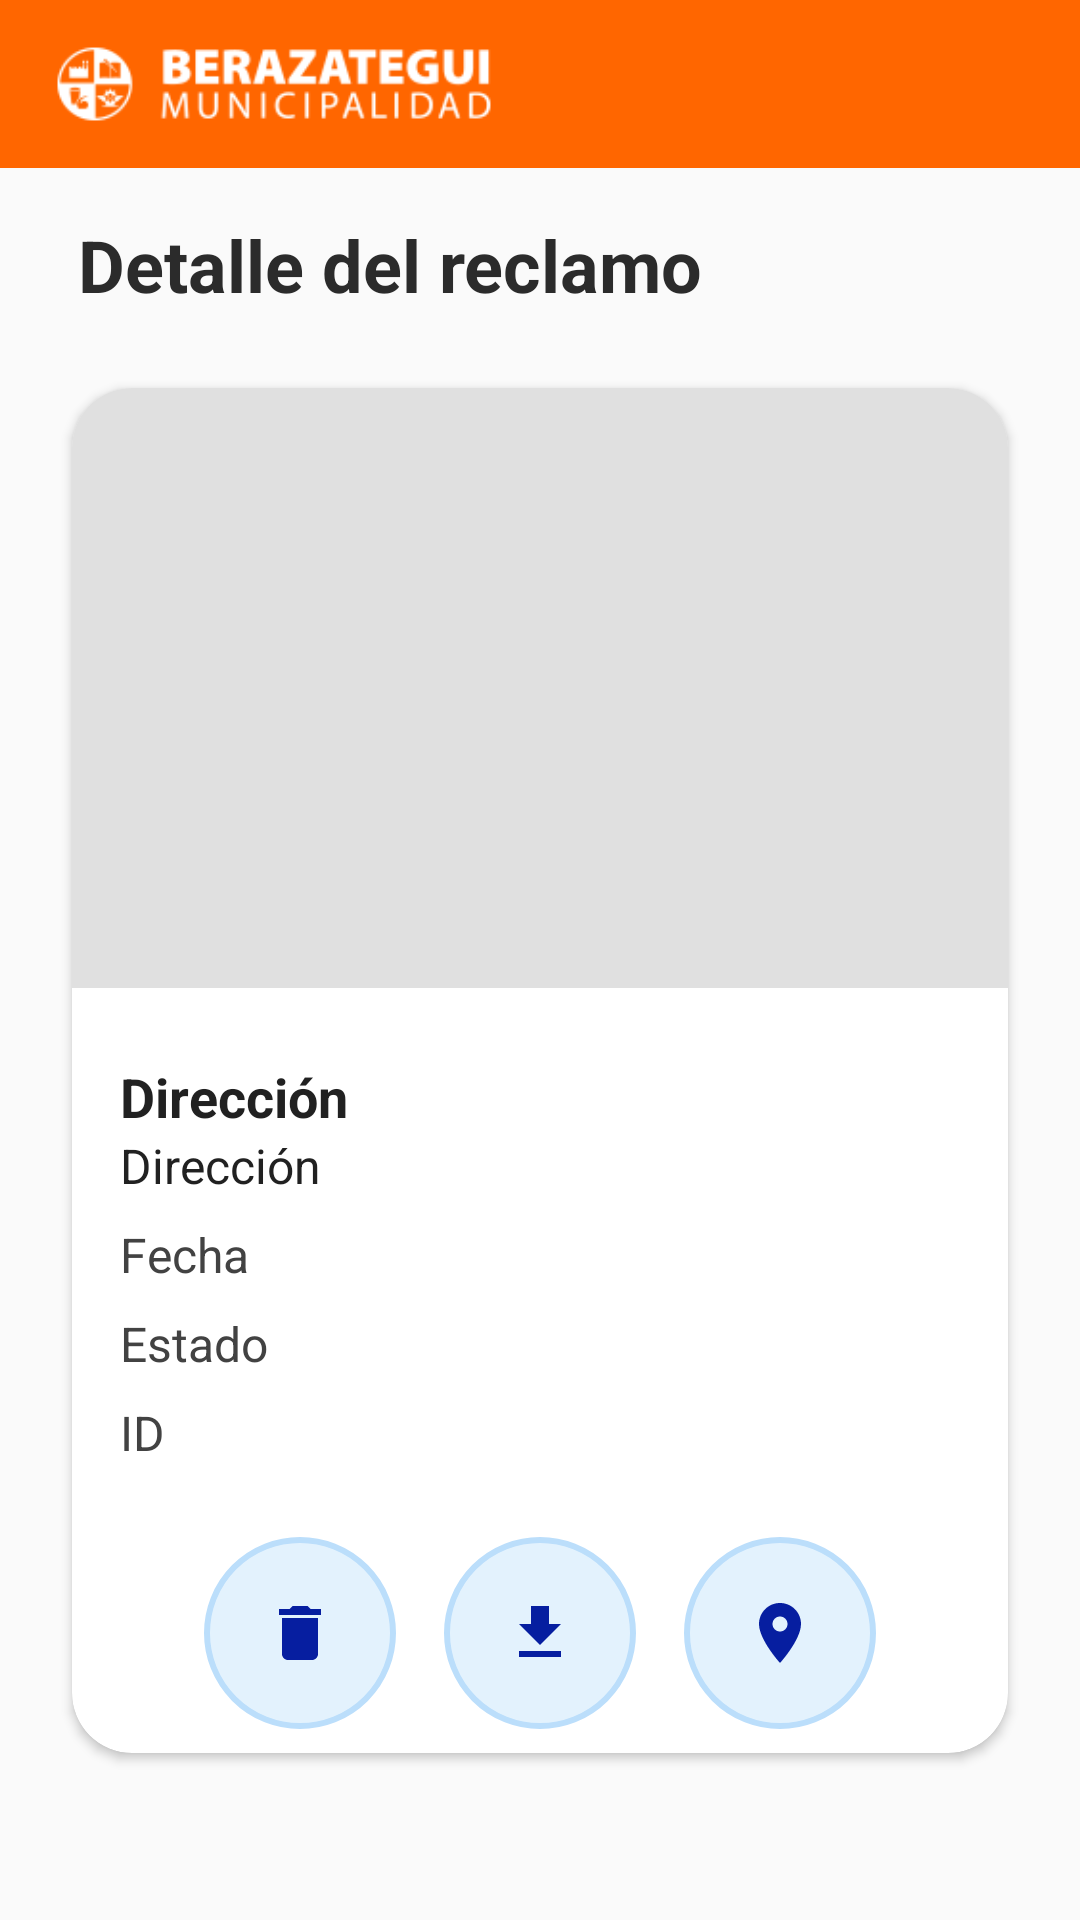

Screen size 1080x1920. Icon name, then its box in pixels as box(x1, y1, x2, y2):
Button for download post image: box(444, 1537, 636, 1729)
Button for locate post marker in map: box(684, 1537, 876, 1729)
